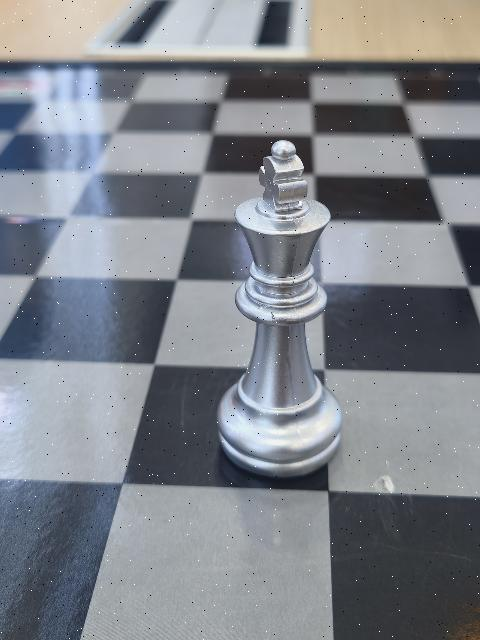white_king: (217, 139, 341, 478)
